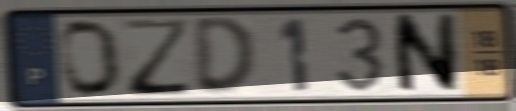1: (278, 15, 313, 94)
3: (329, 14, 387, 94)
D: (190, 14, 260, 98)
N: (389, 11, 461, 97)
O: (57, 17, 125, 100)
Z: (119, 15, 195, 98)
